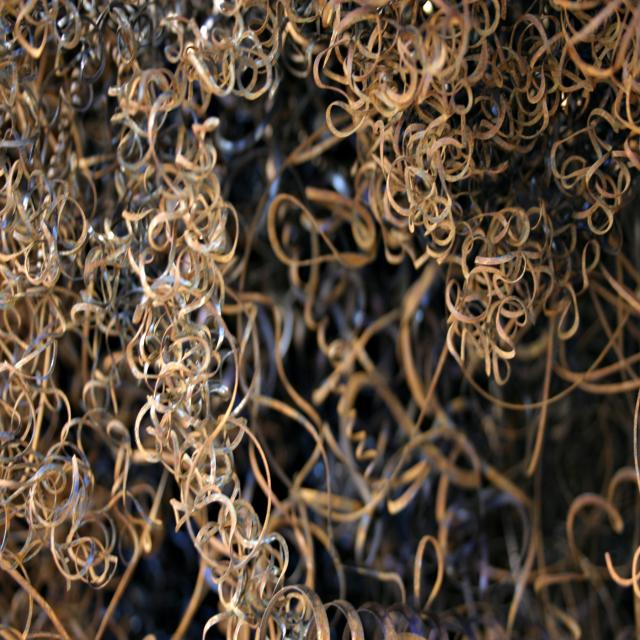metal: (124, 80, 522, 554)
